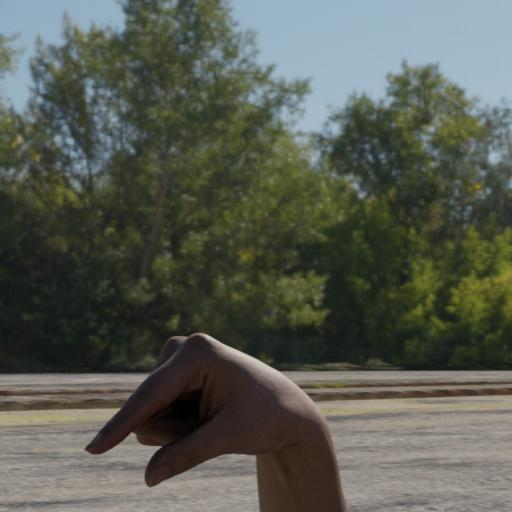Q: (81, 323, 359, 512)
